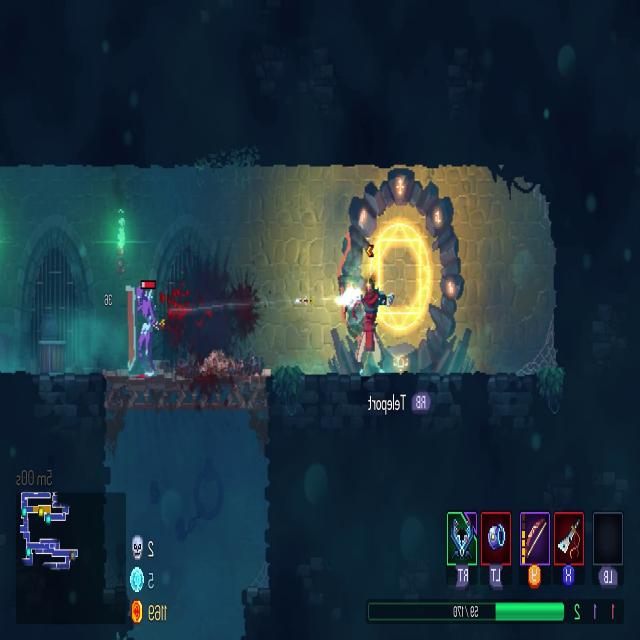agents: (341, 276, 386, 380)
enemy_purple_shield: (124, 283, 158, 378)
wood_floor: (106, 363, 270, 413)
